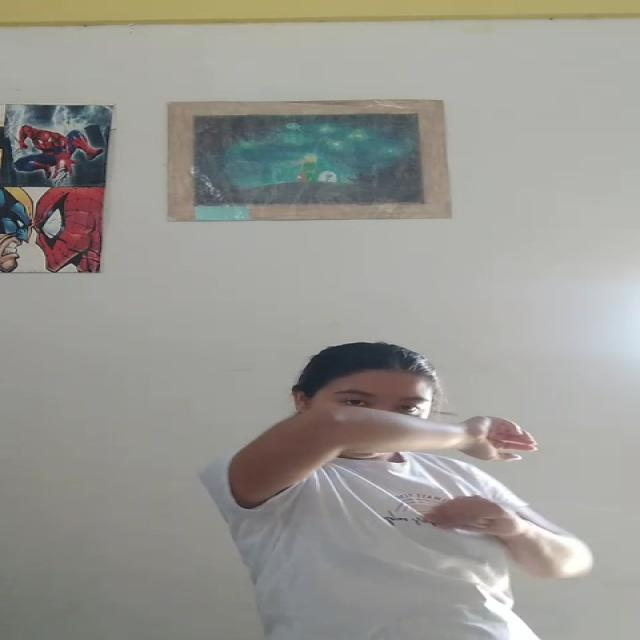7_mano_rostro: (291, 402, 530, 459)
